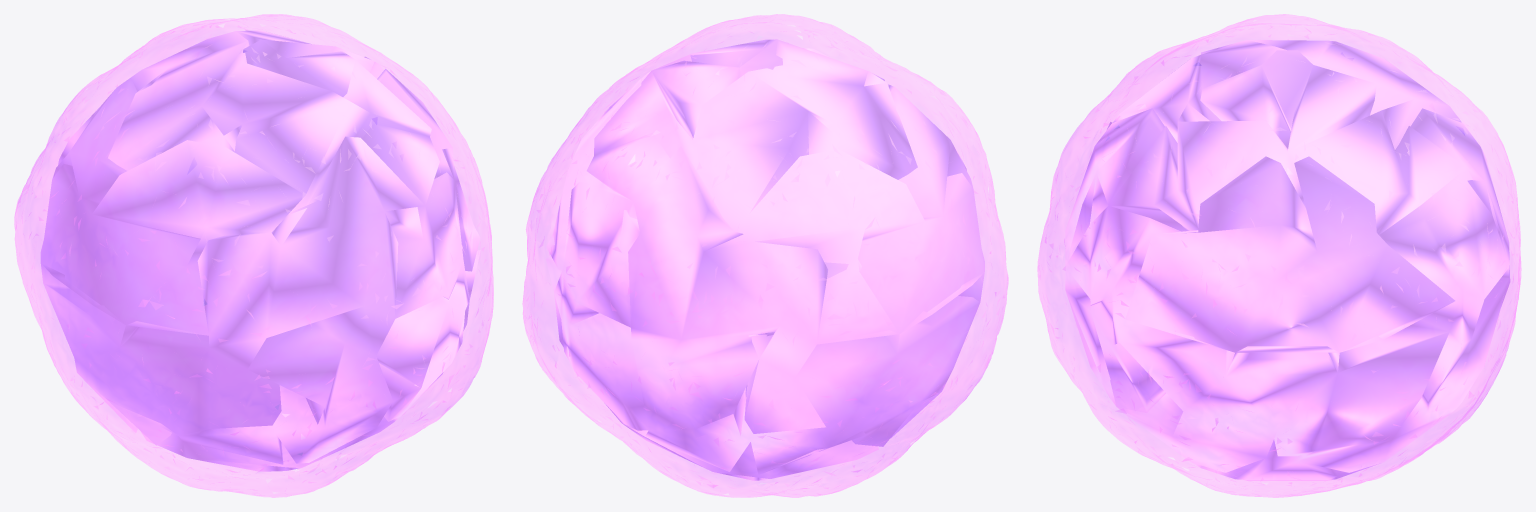
File: antimatiere-instable.glb
The picture shows the model from 3 angles, left to right: view 1: azimuth 30°, elevation 25°; view 2: azimuth 150°, elevation 25°; view 3: azimuth 270°, elevation 25°; orthographic projection.
Visible parts, largest first — view 1: Icosphere.001_1, Icosphere_0; view 2: Icosphere.001_1, Icosphere_0; view 3: Icosphere.001_1, Icosphere_0.
Boxes of the visible parts, box(x1,y1,x2,y2) form: Icosphere.001_1: box(14, 14, 493, 497); Icosphere_0: box(40, 30, 480, 471); Icosphere.001_1: box(522, 14, 1008, 497); Icosphere_0: box(546, 39, 984, 480); Icosphere.001_1: box(1037, 14, 1521, 497); Icosphere_0: box(1065, 40, 1510, 480).
Bounding box in the file's own units: 2.12 × 2.15 × 2.08.
